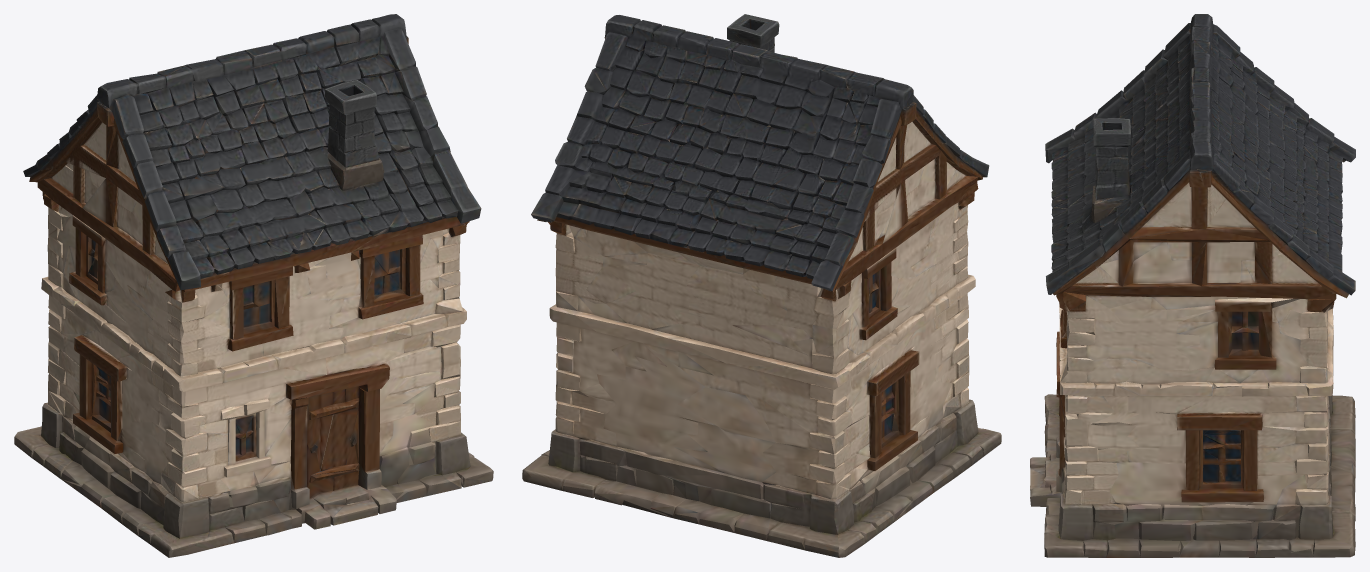
File: bank.glb
3 renders of one model, left to right at view 1: azimuth 30°, elevation 25°; view 2: azimuth 150°, elevation 25°; view 3: azimuth 270°, elevation 25°, orthographic. The views are drawn at different scales.
Bounding box in the file's own units: 1.58 × 1.9 × 1.41.
Materials: 1 (1 with a texture image).
